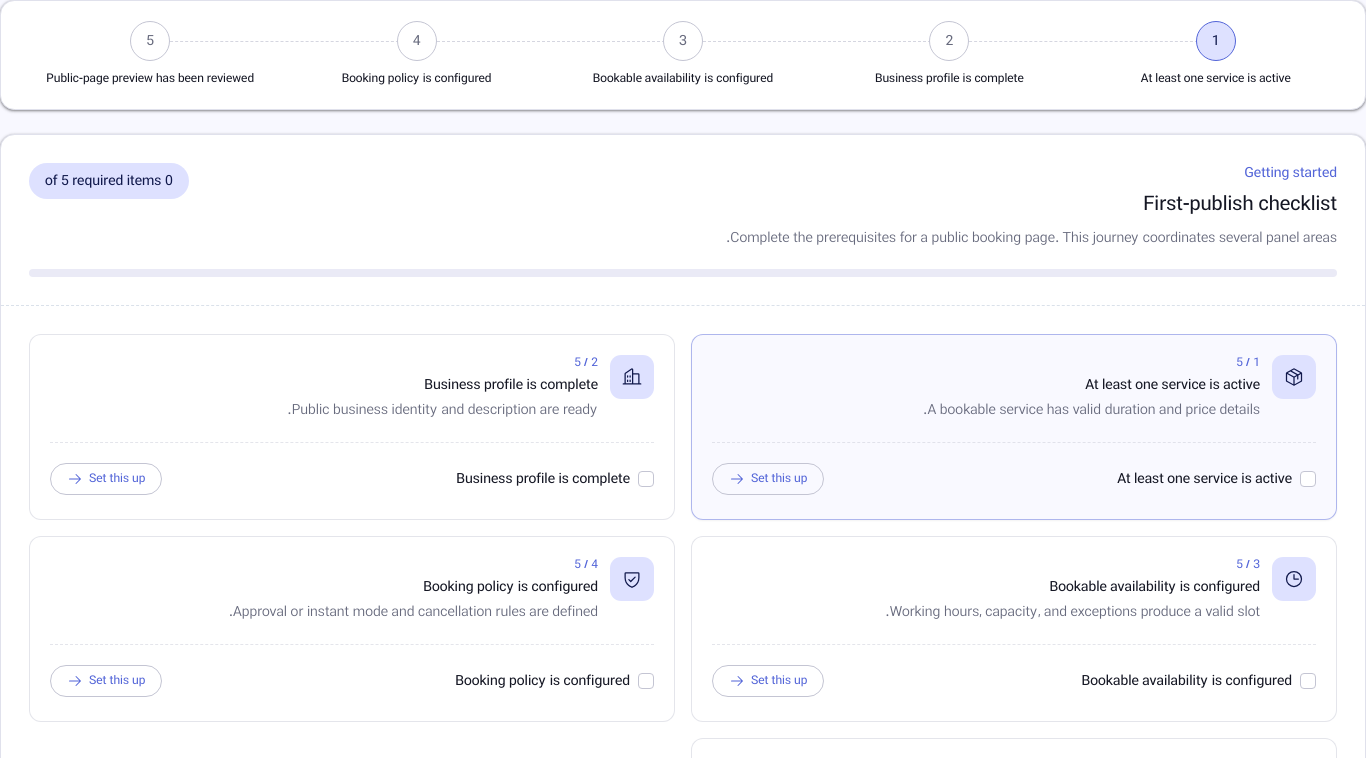
OnboardingPage › guides the five required setup areas and keeps publishing blocked until they are complete
Click the checkbox labelled "At least one service is active". click: click(1308, 479)
box: [1300,471,1316,487]
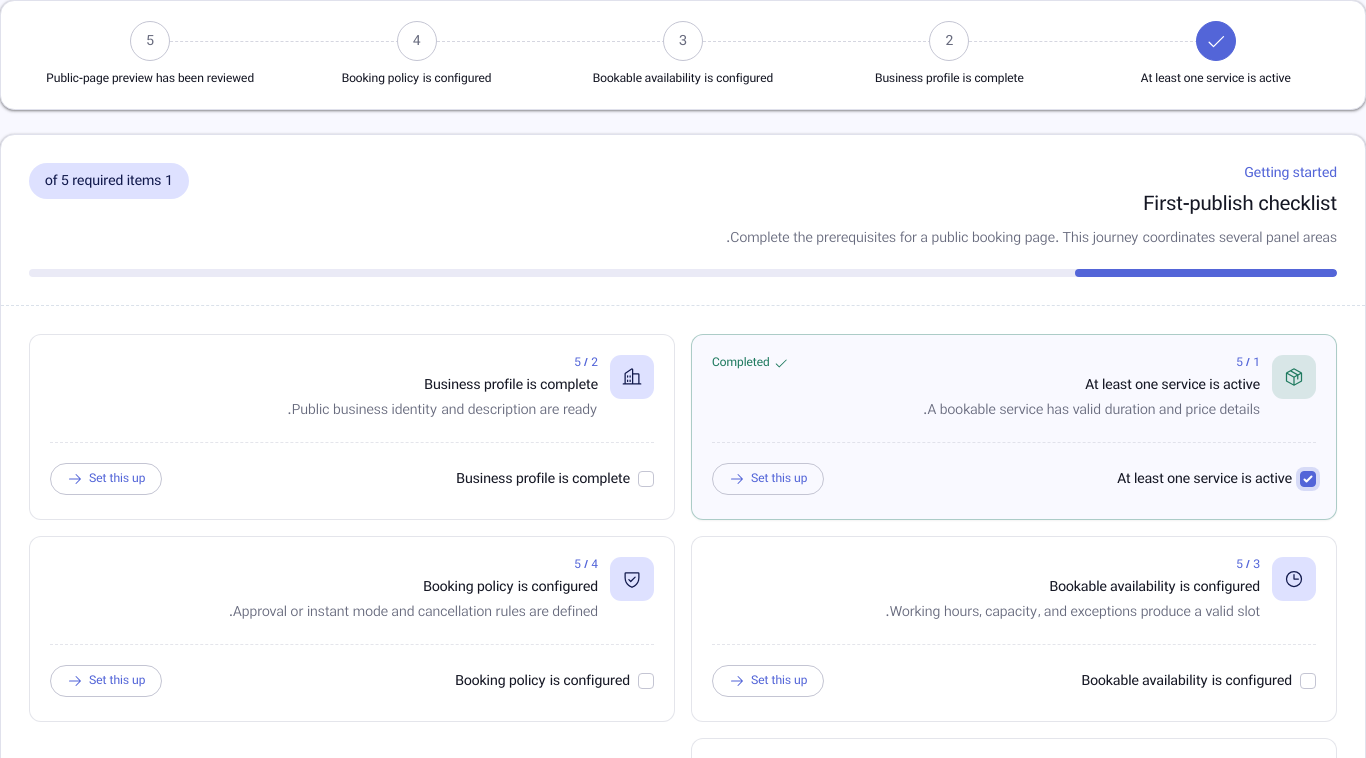
Click the checkbox labelled "Business profile is complete". click: click(646, 479)
box: [638,471,654,487]
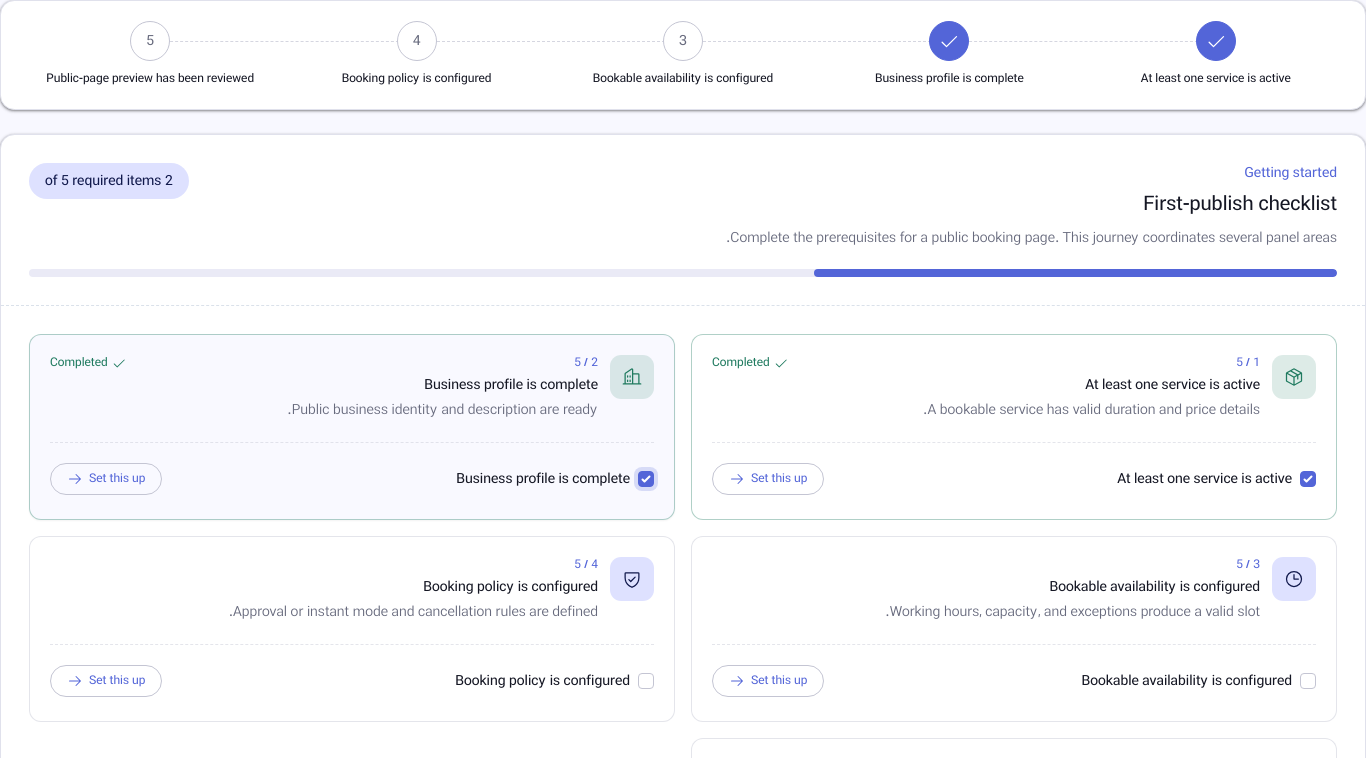
Click the checkbox labelled "Bookable availability is configured". click: click(1308, 681)
box: [1300,673,1316,689]
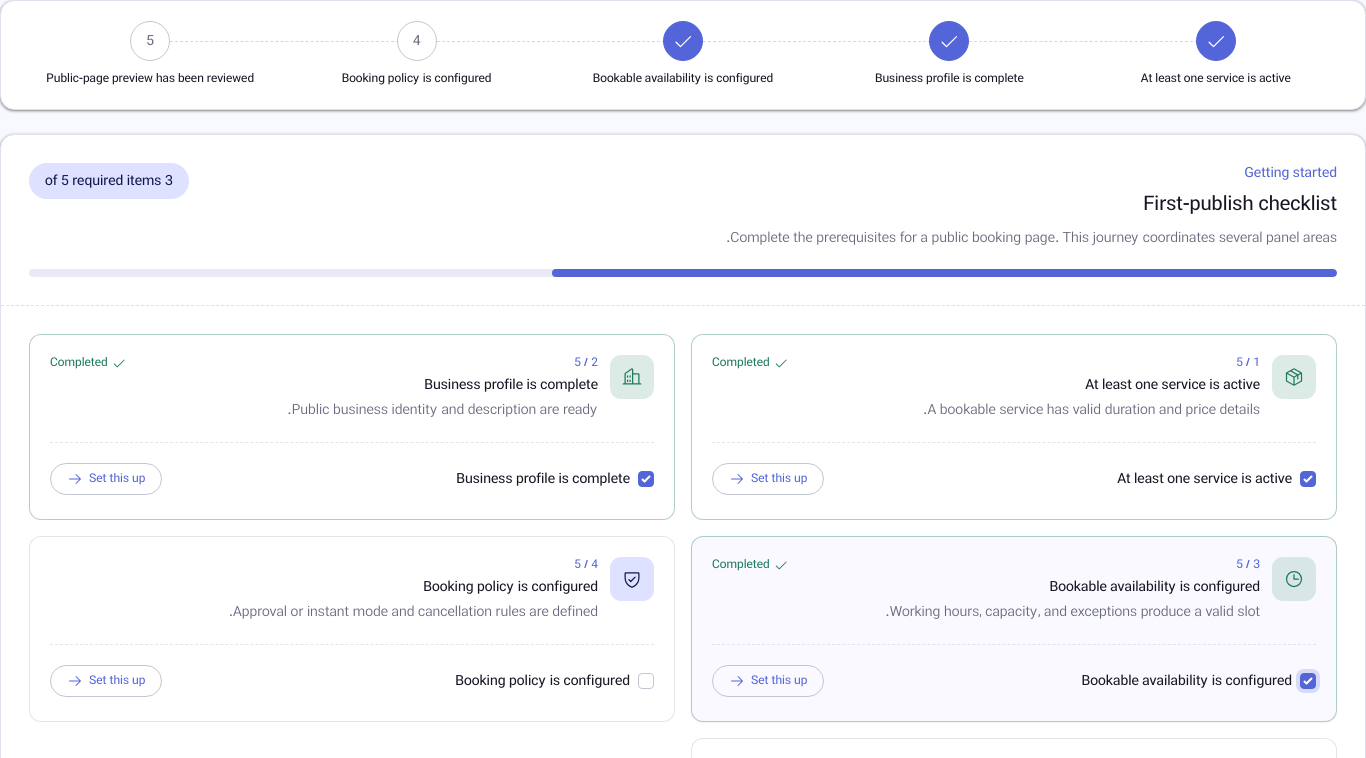
Click the checkbox labelled "Booking policy is configured". click: click(646, 681)
box: [638,673,654,689]
(page scrolled)
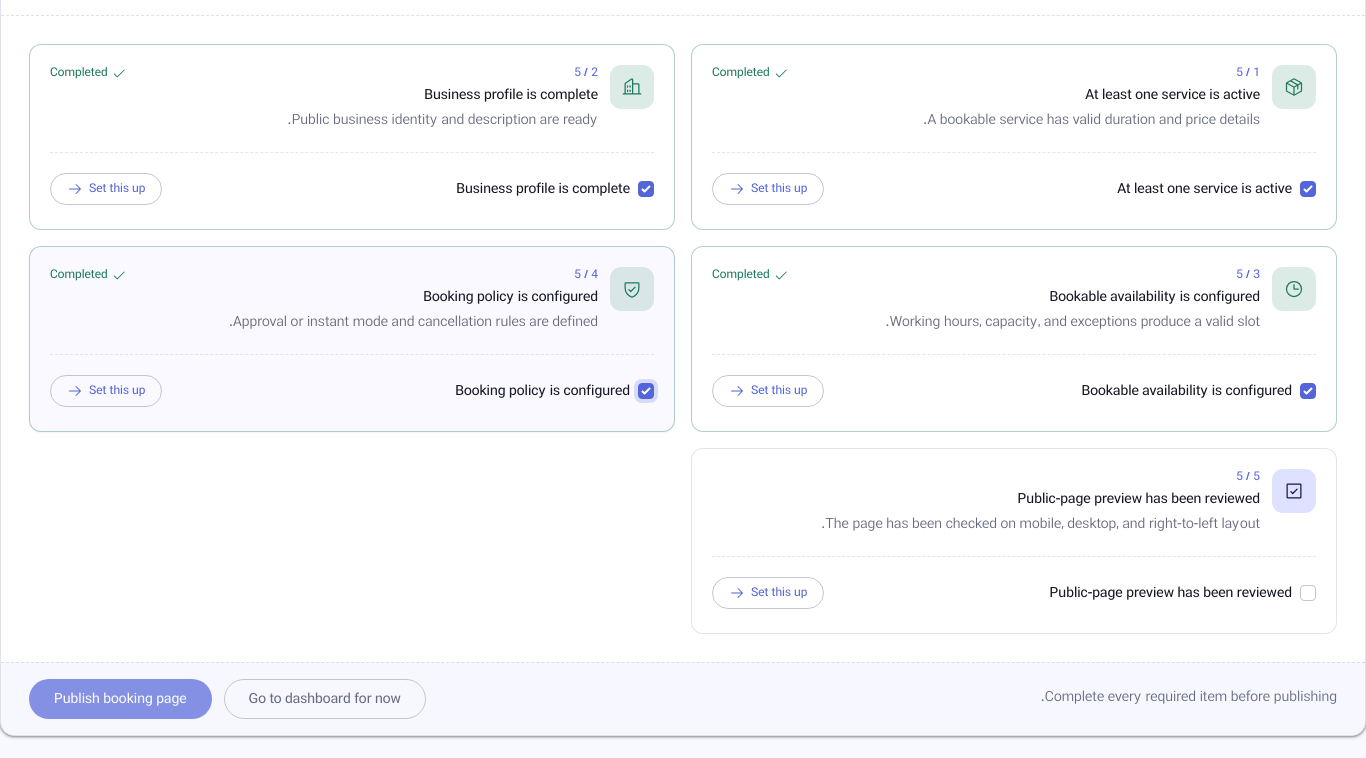
Click the checkbox labelled "Public-page preview has been reviewed". click: click(1308, 592)
box: [1300,584,1316,600]
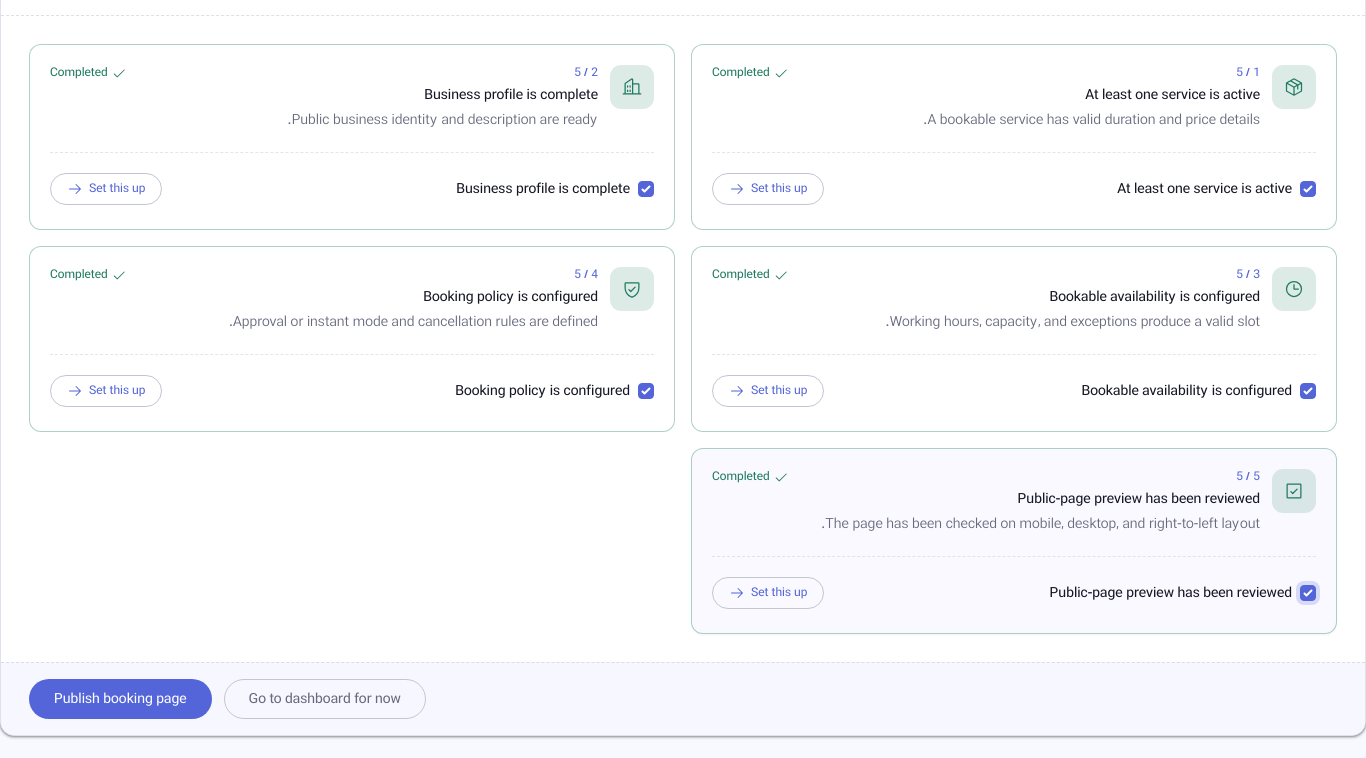
expect the button "Publish booking page" is enabled: met
Click the button "Publish booking page". click: click(120, 698)
box: [29,678,212,718]
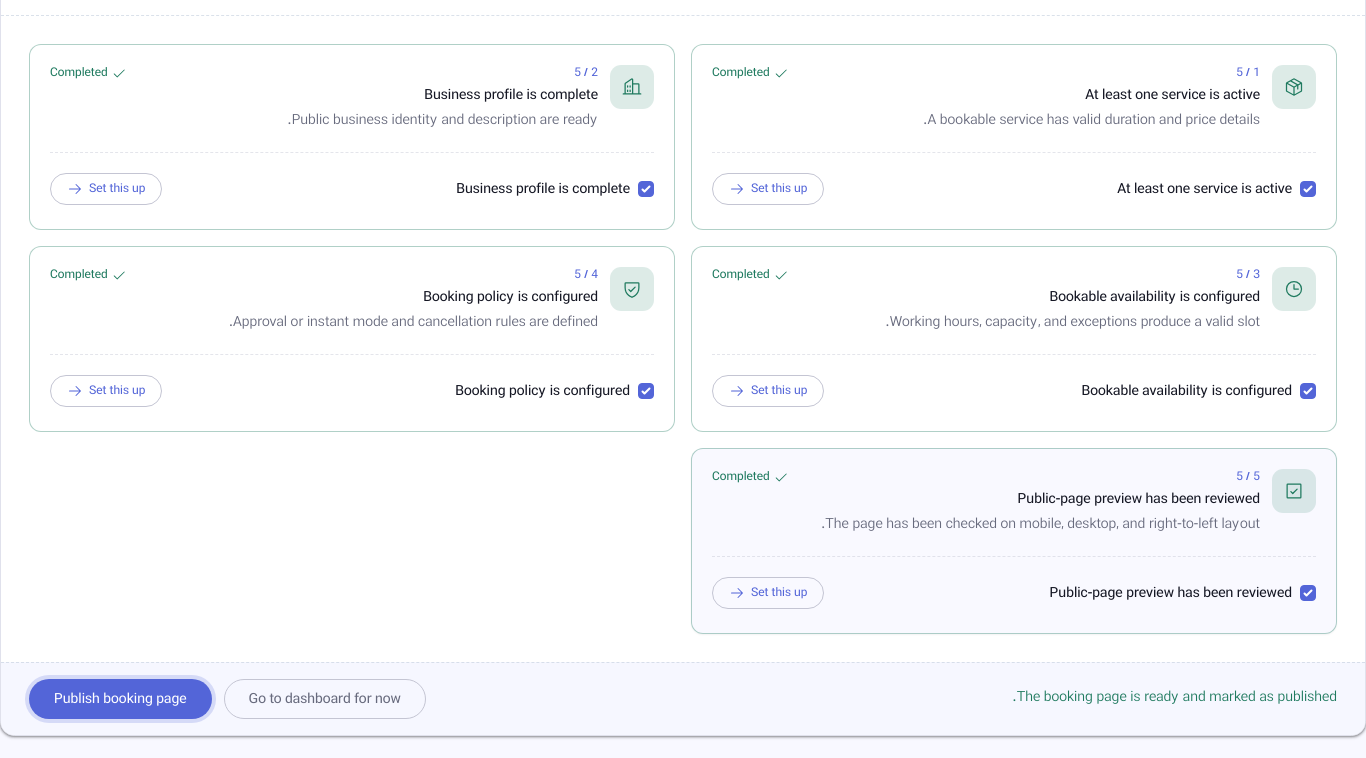
expect the text "The booking page is ready and marked as published." is shown: met, box [1012,686,1337,710]
